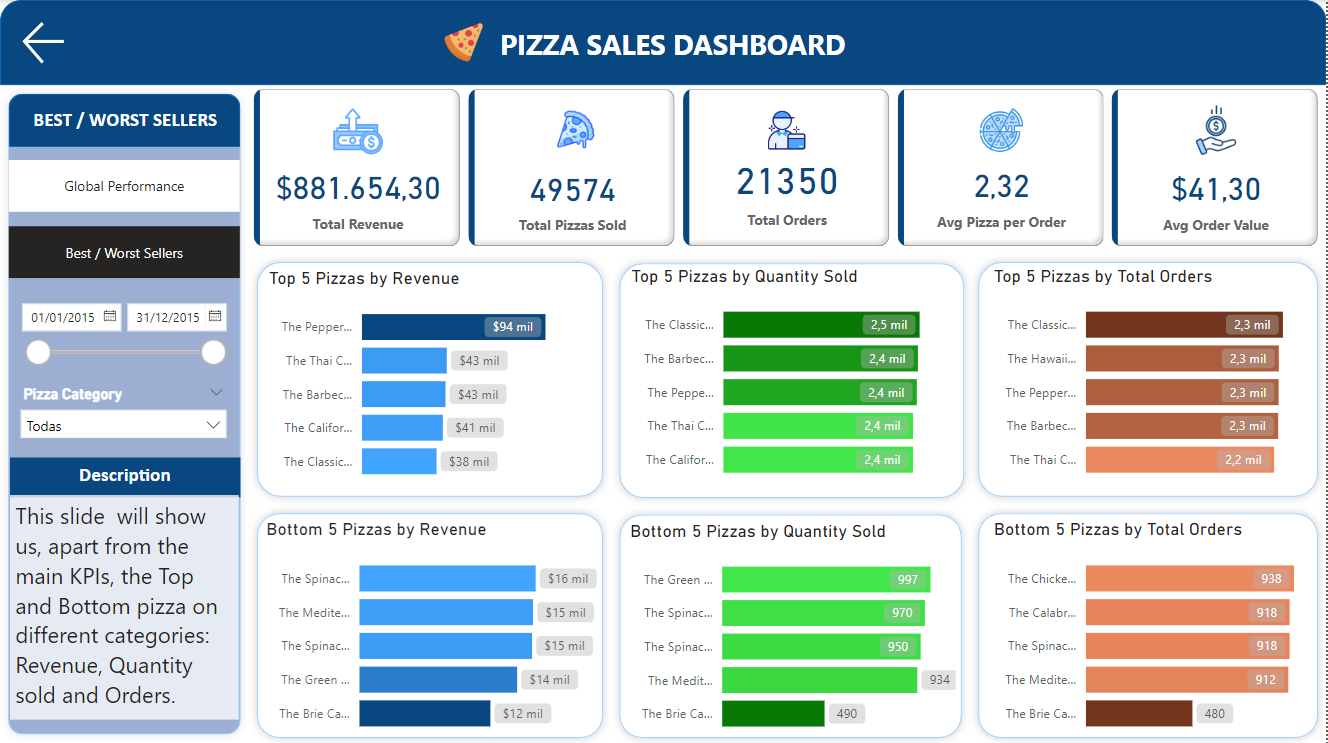

The dashboard page shown, as its layout file describes it:
{"tool":"powerbi","page":{"name":"Best / Worst Sellers","canvas":[1280,720],"ordinal":1},"visuals":[{"type":"cardVisual","fields":{"Data":["pizza_sales.Total_Revenue","pizza_sales.Total_Pizzas_Sold","pizza_sales.Total_Orders","pizza_sales.Avg_Pizza_Per_Order","pizza_sales.Avg_Order_Value"]},"box":[240,81.4,1040,162.9],"z":0},{"type":"shape","box":[0,0,1280.3,82.3],"z":1000},{"type":"textbox","box":[448.7,19.2,400.7,49.4],"z":2000},{"type":"image","box":[424,16.5,48,48],"z":3000},{"type":"shape","box":[0,83.2,240.1,633.4],"z":4000},{"type":"slicer","fields":{"Values":["pizza_sales.pizza_category"]},"box":[10,367.1,218.6,64.3],"z":7000},{"type":"slicer","fields":{"Values":["pizza_sales.order_date"]},"box":[8.6,282.9,218.6,82.9],"z":8000},{"type":"shape","box":[589.9,246.1,348.7,242.5],"z":9000},{"type":"shape","box":[589.9,488.6,346.2,231.6],"z":10000},{"type":"shape","box":[936.2,487.4,343.8,232.8],"z":11000},{"type":"shape","box":[240.1,487.4,349.9,232.8],"z":12000},{"type":"shape","box":[936.2,244.9,343.8,242.5],"z":13000},{"type":"shape","box":[240.1,244.9,349.9,242.5],"z":14000},{"type":"barChart","title":"Top 5 Pizzas by Revenue","fields":{"Category":["pizza_sales.pizza_name"],"Y":["pizza_sales.Total_Revenue"]},"box":[254.3,258.6,328.6,218.6],"z":15000},{"type":"barChart","title":"Bottom 5 Pizzas by Revenue","fields":{"Category":["pizza_sales.pizza_name"],"Y":["pizza_sales.Total_Revenue"]},"box":[252.1,500.7,329.4,219.6],"z":16000},{"type":"barChart","title":"Top 5 Pizzas by Quantity Sold","fields":{"Category":["pizza_sales.pizza_name"],"Y":["pizza_sales.Total_Pizzas_Sold"]},"box":[604.4,255.8,323.3,219.6],"z":17000},{"type":"barChart","title":"Bottom 5 Pizzas by Quantity Sold","fields":{"Category":["pizza_sales.pizza_name"],"Y":["pizza_sales.Total_Pizzas_Sold"]},"box":[603.2,501.9,324.5,218.4],"z":18000},{"type":"barChart","title":"Top 5 Pizzas by Total Orders","fields":{"Category":["pizza_sales.pizza_name"],"Y":["pizza_sales.Total_Orders"]},"box":[954.3,255.8,325.7,219.6],"z":19000},{"type":"barChart","title":"Bottom 5 Pizzas by Total Orders","fields":{"Category":["pizza_sales.pizza_name"],"Y":["pizza_sales.Total_Orders"]},"box":[954.3,500.7,325.7,219.6],"z":20000},{"type":"shape","box":[8.5,91,223.5,51.5],"z":21000},{"type":"textbox","box":[10,98.8,222.5,36.2],"z":22000},{"type":"pageNavigator","box":[8.5,153.8,223.8,50],"z":23000},{"type":"pageNavigator","box":[8.5,218.5,223.8,50],"z":24000},{"type":"actionButton","box":[17.1,8.6,51.4,65.7],"z":25000},{"type":"textbox","box":[10,441,222,38],"z":25001},{"type":"textbox","box":[10,478,221,217],"z":25002}]}

Visuals, with their boxes in screenshot pixels (x1, y1, x2, y2), scaled from the page's 1280x720 canvas onto the 1328x743 screenshot:
cardVisual - pizza_sales.Total_Revenue x pizza_sales.Total_Pizzas_Sold: locate(249, 84, 1327, 252)
shape: locate(0, 0, 1327, 85)
textbox: locate(466, 20, 881, 71)
image: locate(440, 17, 490, 67)
shape: locate(0, 86, 249, 739)
slicer - pizza_sales.pizza_category: locate(10, 379, 237, 445)
slicer - pizza_sales.order_date: locate(9, 292, 236, 377)
shape: locate(612, 254, 974, 504)
shape: locate(612, 504, 971, 742)
shape: locate(971, 503, 1327, 742)
shape: locate(249, 503, 612, 742)
shape: locate(971, 253, 1327, 503)
shape: locate(249, 253, 612, 503)
"Top 5 Pizzas by Revenue" barChart: locate(264, 267, 605, 492)
"Bottom 5 Pizzas by Revenue" barChart: locate(262, 517, 603, 742)
"Top 5 Pizzas by Quantity Sold" barChart: locate(627, 264, 962, 491)
"Bottom 5 Pizzas by Quantity Sold" barChart: locate(626, 518, 962, 742)
"Top 5 Pizzas by Total Orders" barChart: locate(990, 264, 1327, 491)
"Bottom 5 Pizzas by Total Orders" barChart: locate(990, 517, 1327, 742)
shape: locate(9, 94, 241, 147)
textbox: locate(10, 102, 241, 139)
pageNavigator: locate(9, 159, 241, 210)
pageNavigator: locate(9, 225, 241, 277)
actionButton: locate(18, 9, 71, 77)
textbox: locate(10, 455, 241, 494)
textbox: locate(10, 493, 240, 717)
